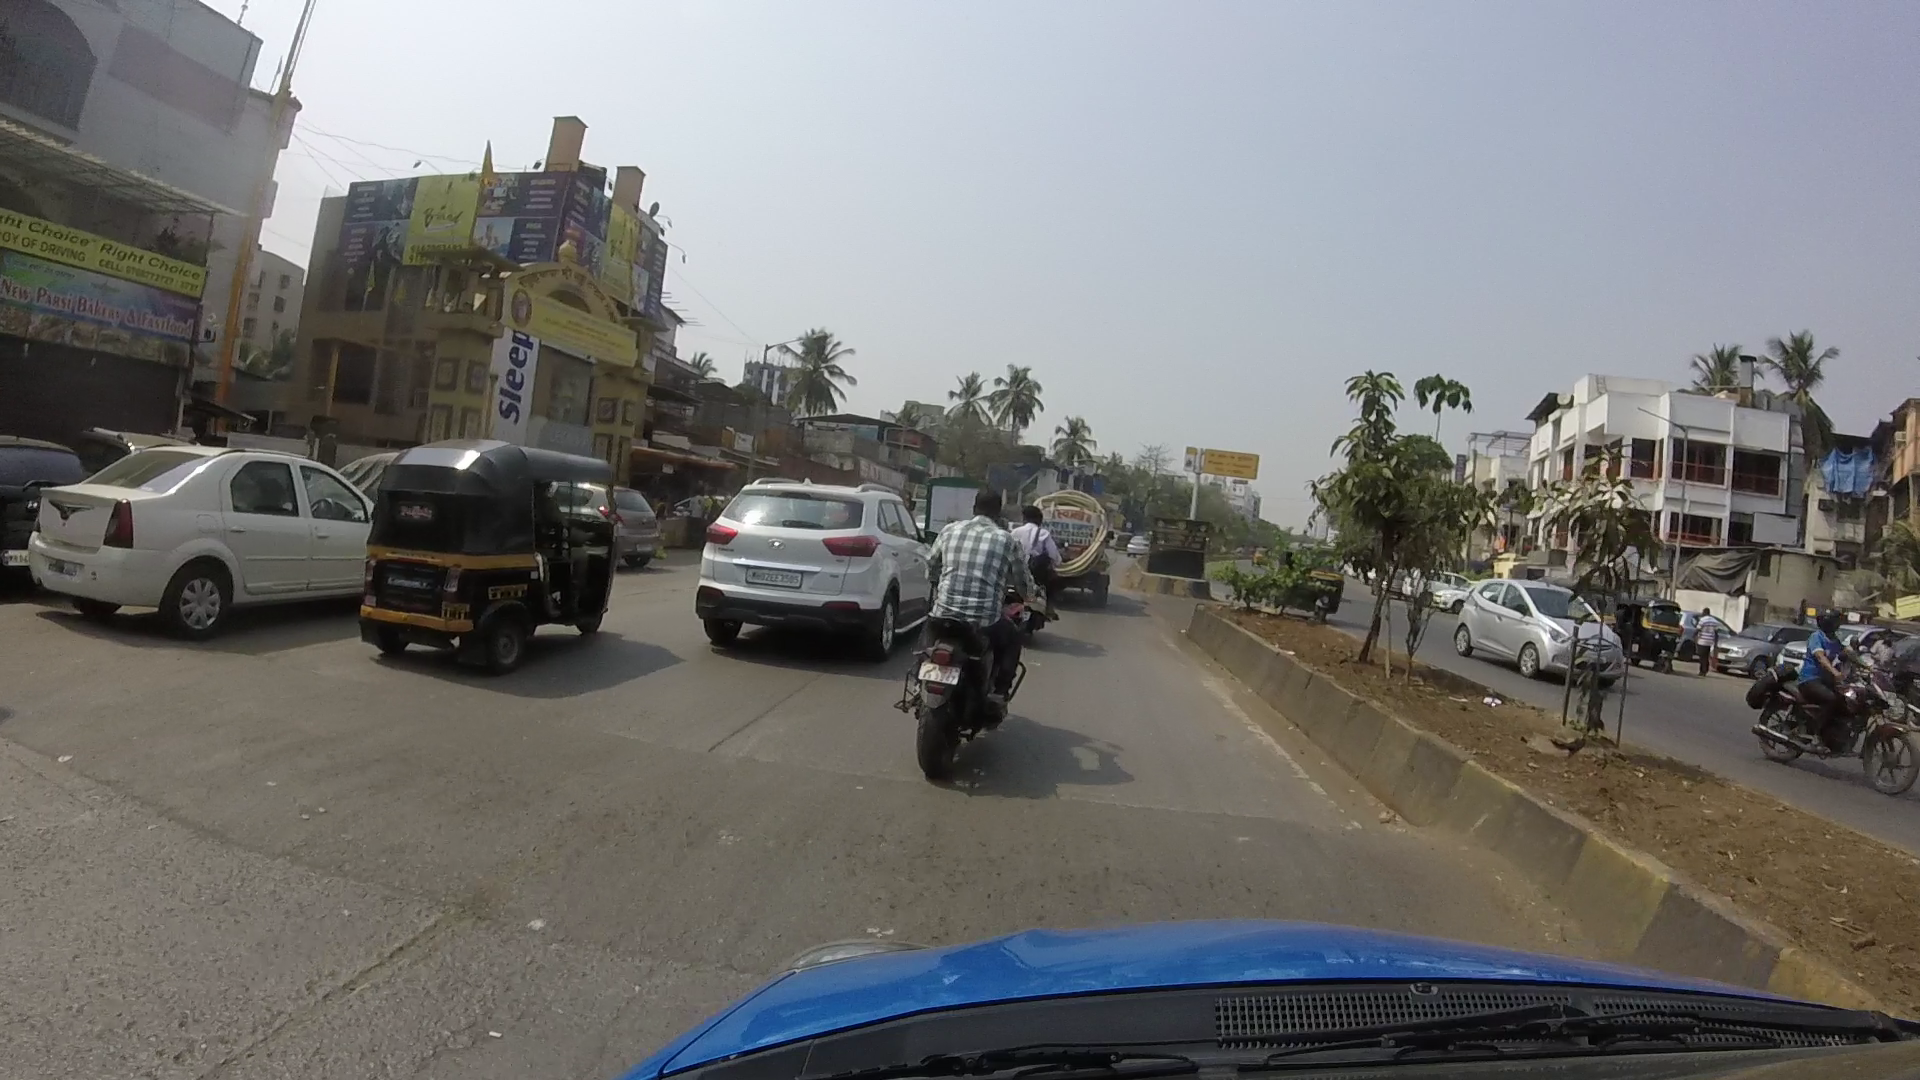bike/scooter: (877, 477, 1071, 781), (1745, 597, 1902, 794), (1004, 491, 1058, 622)
car: (33, 407, 401, 647), (671, 422, 930, 719), (1443, 542, 1636, 736)
rickshaw: (351, 440, 633, 669), (1269, 498, 1354, 634)
truck: (1036, 484, 1114, 605)
